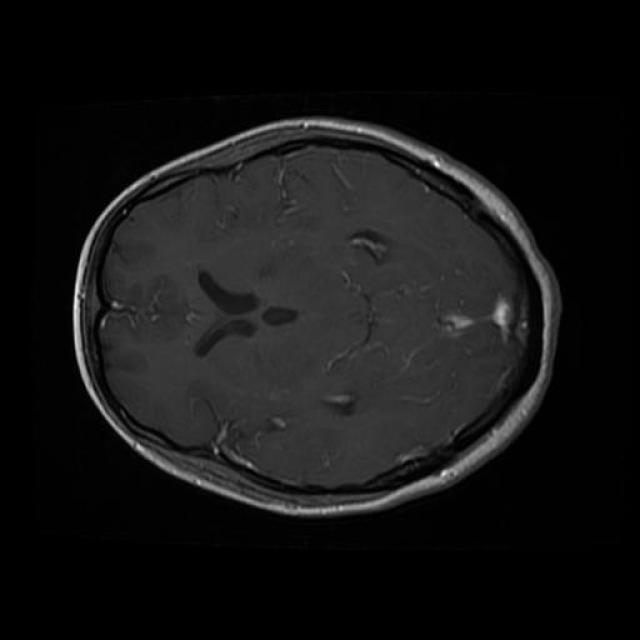Glioma: (133, 275, 178, 338)
